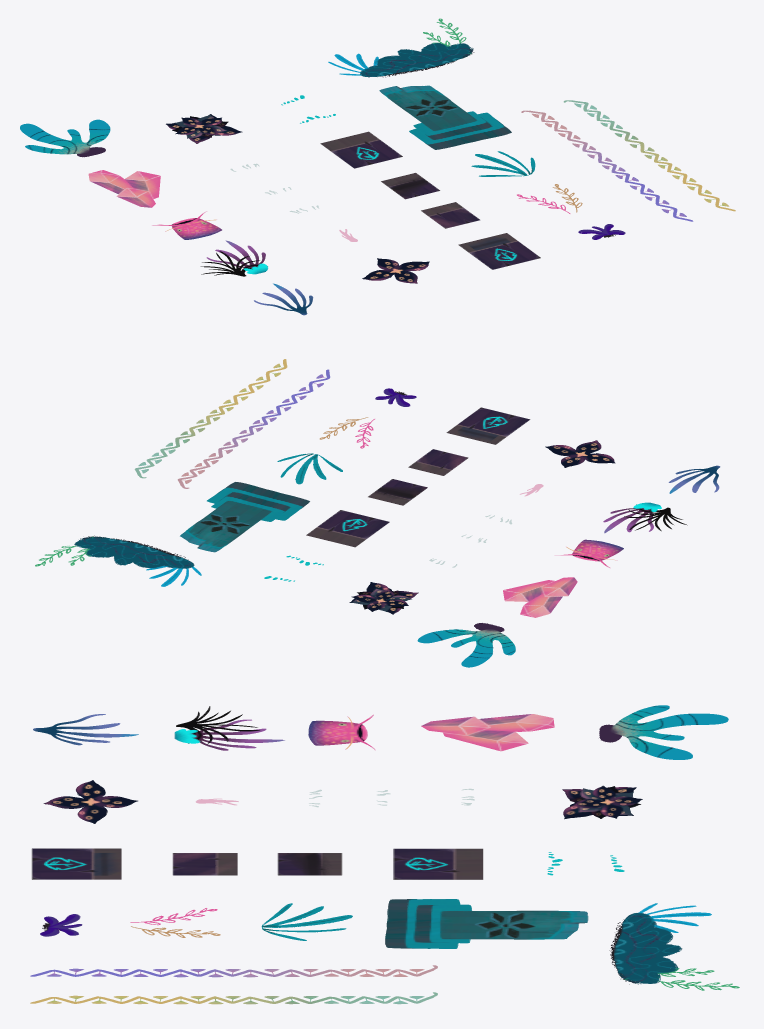
Rendered from Agua.fbx.
3 views of the same model, one above another, from view 1: azimuth 30°, elevation 25°; view 2: azimuth 150°, elevation 25°; view 3: azimuth 270°, elevation 25° (orthographic). The views are drawn at different scales.
Visible parts, largest first — view 1: Plane.022, Plane.023, Plane.018, Plane.017, Plane.007, Plane.009, Plane.001, Plane.002, Plane.016, Plane.012, Plane.006, Plane.003 (+4 smaller); view 2: Plane.022, Plane.023, Plane.018, Plane.017, Plane.007, Plane.009, Plane.001, Plane.002, Plane.016, Plane.012, Plane.006, Plane.003 (+4 smaller); view 3: Plane.022, Plane.023, Plane.018, Plane.017, Plane.007, Plane.009, Plane.001, Plane.002, Plane.016, Plane.012, Plane.006, Plane.003 (+6 smaller).
Boxes of the visible parts, left/top/right/bottom form: Plane.022: left=379, top=85, right=511, bottom=149; Plane.023: left=328, top=18, right=474, bottom=77; Plane.018: left=20, top=119, right=110, bottom=157; Plane.017: left=88, top=170, right=160, bottom=207; Plane.007: left=458, top=233, right=540, bottom=269; Plane.009: left=320, top=131, right=402, bottom=168; Plane.001: left=563, top=100, right=735, bottom=211; Plane.002: left=521, top=110, right=693, bottom=221; Plane.016: left=166, top=114, right=242, bottom=143; Plane.012: left=200, top=240, right=268, bottom=276; Plane.006: left=362, top=258, right=429, bottom=283; Plane.003: left=421, top=202, right=480, bottom=228; Plane.022: left=180, top=482, right=309, bottom=552; Plane.023: left=35, top=535, right=201, bottom=586; Plane.018: left=417, top=623, right=515, bottom=667; Plane.017: left=503, top=577, right=577, bottom=617; Plane.007: left=446, top=407, right=530, bottom=444; Plane.009: left=306, top=510, right=389, bottom=547; Plane.001: left=134, top=359, right=287, bottom=478; Plane.002: left=177, top=369, right=330, bottom=488; Plane.016: left=349, top=582, right=418, bottom=614; Plane.012: left=603, top=502, right=687, bottom=533; Plane.006: left=545, top=440, right=615, bottom=467; Plane.003: left=408, top=449, right=468, bottom=475; Plane.022: left=385, top=899, right=588, bottom=948; Plane.023: left=609, top=903, right=739, bottom=990; Plane.018: left=599, top=705, right=728, bottom=759; Plane.017: left=421, top=714, right=554, bottom=751; Plane.007: left=31, top=848, right=121, bottom=879; Plane.009: left=393, top=848, right=483, bottom=879; Plane.001: left=30, top=992, right=437, bottom=1004; Plane.002: left=30, top=965, right=437, bottom=977; Plane.016: left=562, top=785, right=642, bottom=819; Plane.012: left=174, top=706, right=284, bottom=750; Plane.006: left=43, top=780, right=137, bottom=823; Plane.003: left=172, top=853, right=237, bottom=875.
Size of the model in its own units: 195 by 2.66e-05 by 193.
